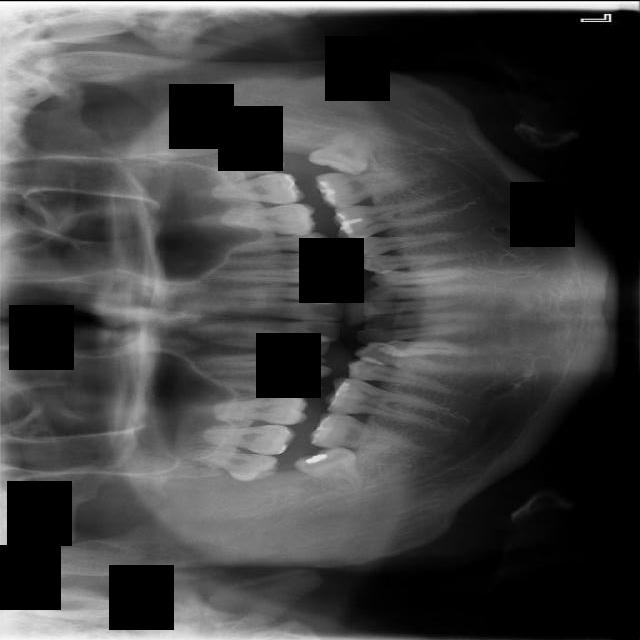3M ESPE Implant: (160, 436, 280, 487)
52: (310, 159, 368, 216), (326, 192, 385, 247), (290, 438, 356, 479), (307, 406, 362, 453), (248, 414, 298, 464), (321, 375, 382, 414), (257, 164, 307, 210), (278, 352, 331, 380), (277, 334, 332, 356)
73: (618, 8, 624, 20)
BioHorizons Implant: (184, 168, 306, 205)
BioLife Implant: (175, 135, 285, 194)
Biomet 3i Implant: (306, 119, 377, 181)
Blue Sky Bio Implant: (314, 168, 423, 208)
Caries: (173, 417, 297, 456)
Implant: (308, 409, 417, 452)
Keystone Dental Implant: (291, 437, 367, 508)
